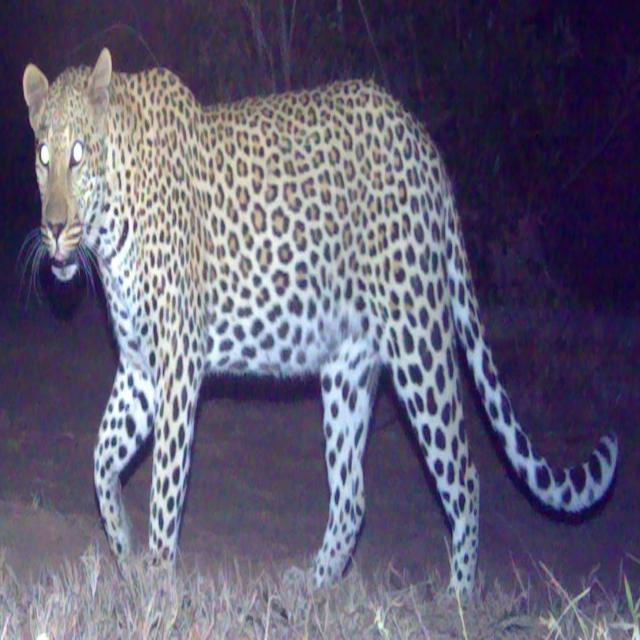Leopard: (23, 71, 628, 628)
